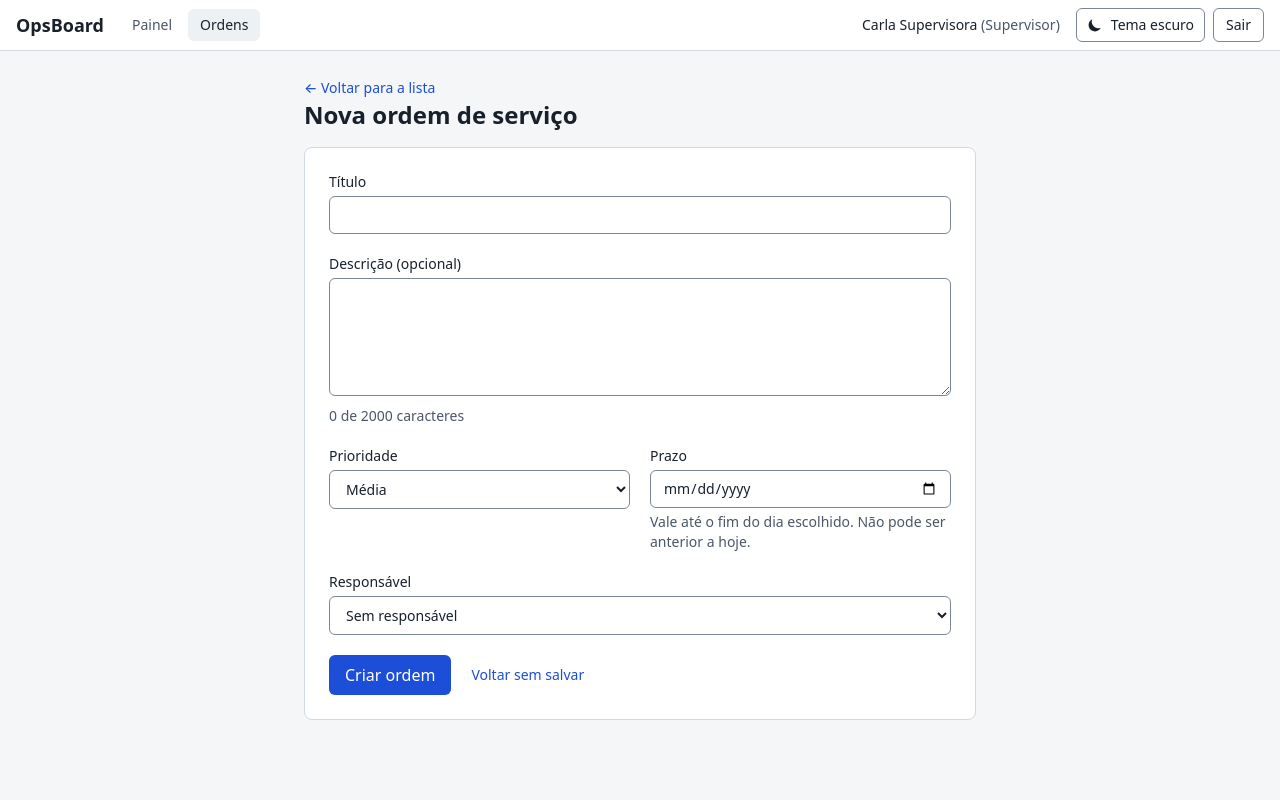
Nova ordem (/orders/new) › supervisor escolhe o responsável
Check: the dropdown labelled "Responsável" is enabled, box [329, 596, 951, 635]
In the field labelled "Título": (640, 215) [329, 196, 951, 234], type "Revisar gerador"
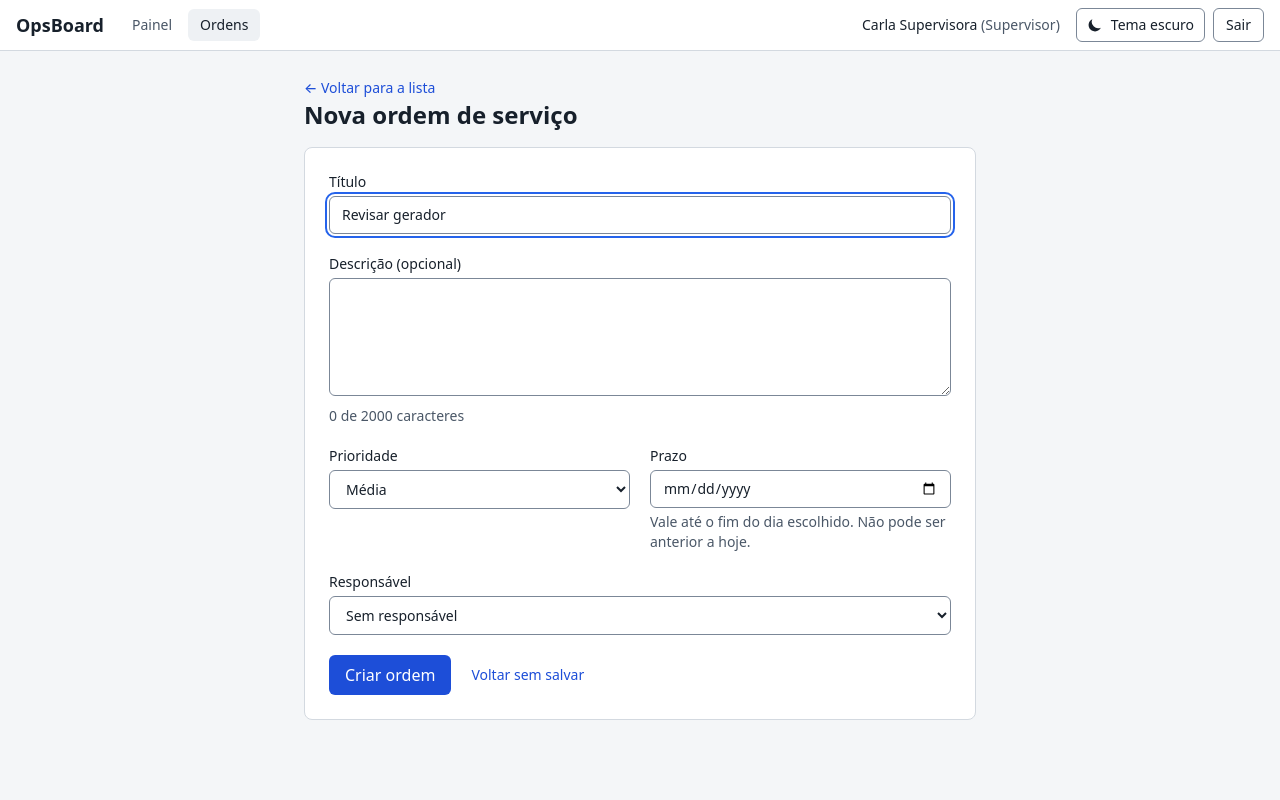
In the date field labelled "Prazo": (800, 489) [650, 470, 951, 508], type "2026-11-12"
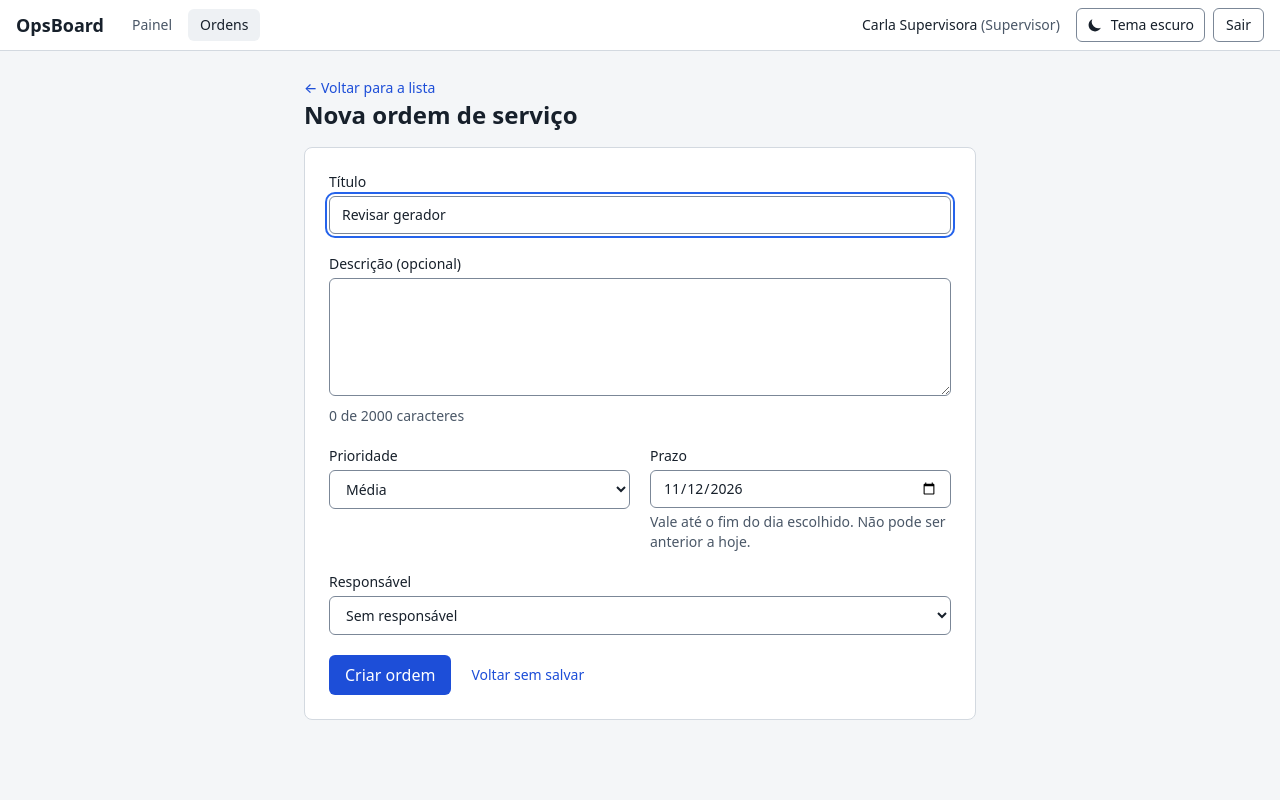
In the text box labelled "Descrição (opcional)": (640, 337) [329, 278, 951, 396], type "Antes do feriado"
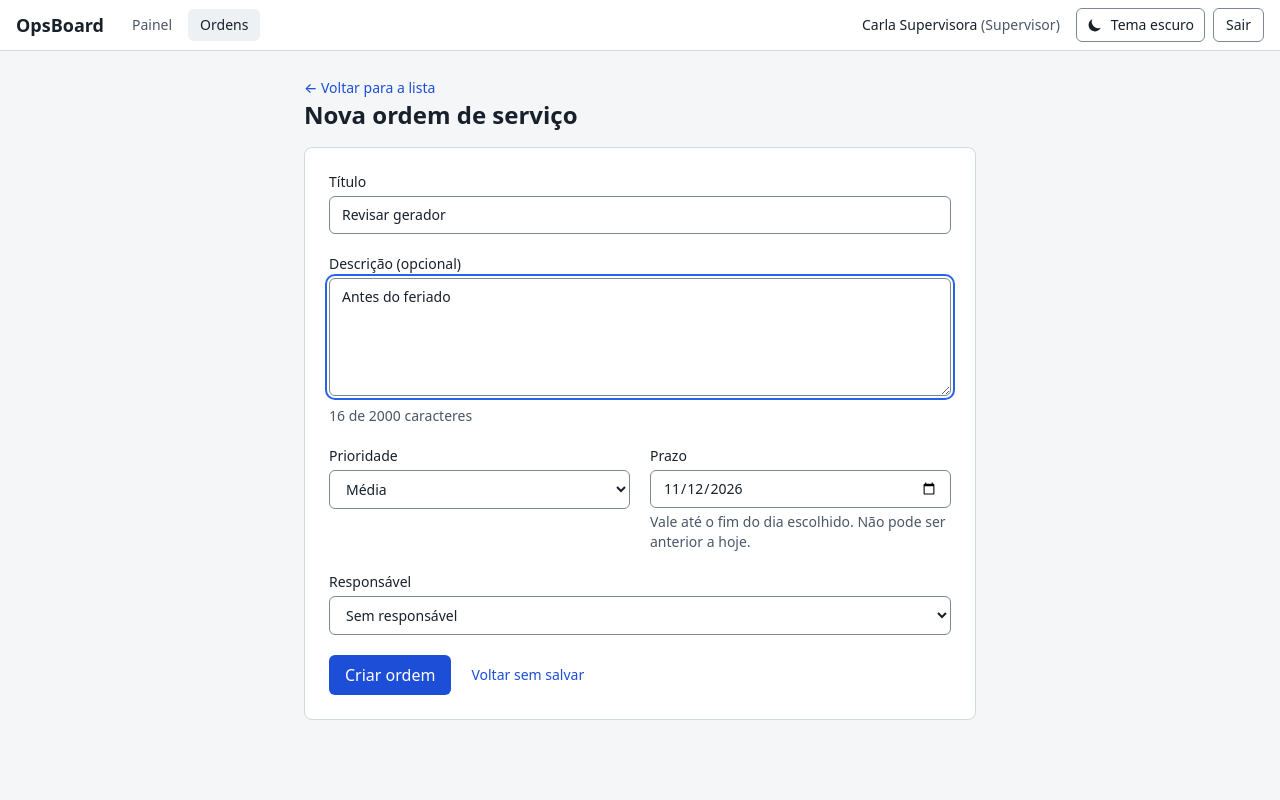
Select "Bruno Operador (Operador)" in the dropdown labelled "Responsável": (640, 616) [329, 596, 951, 635]
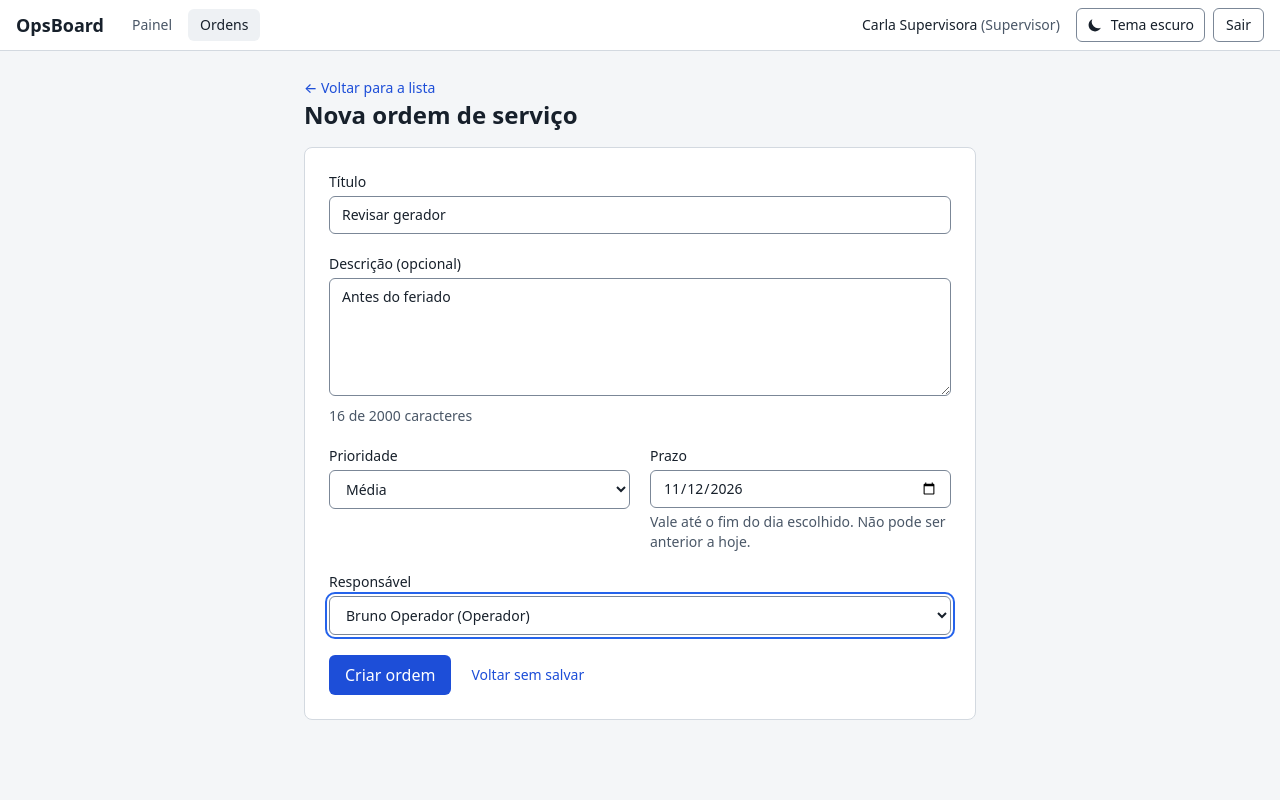
Click the button "Criar ordem": (390, 675) [329, 655, 451, 695]
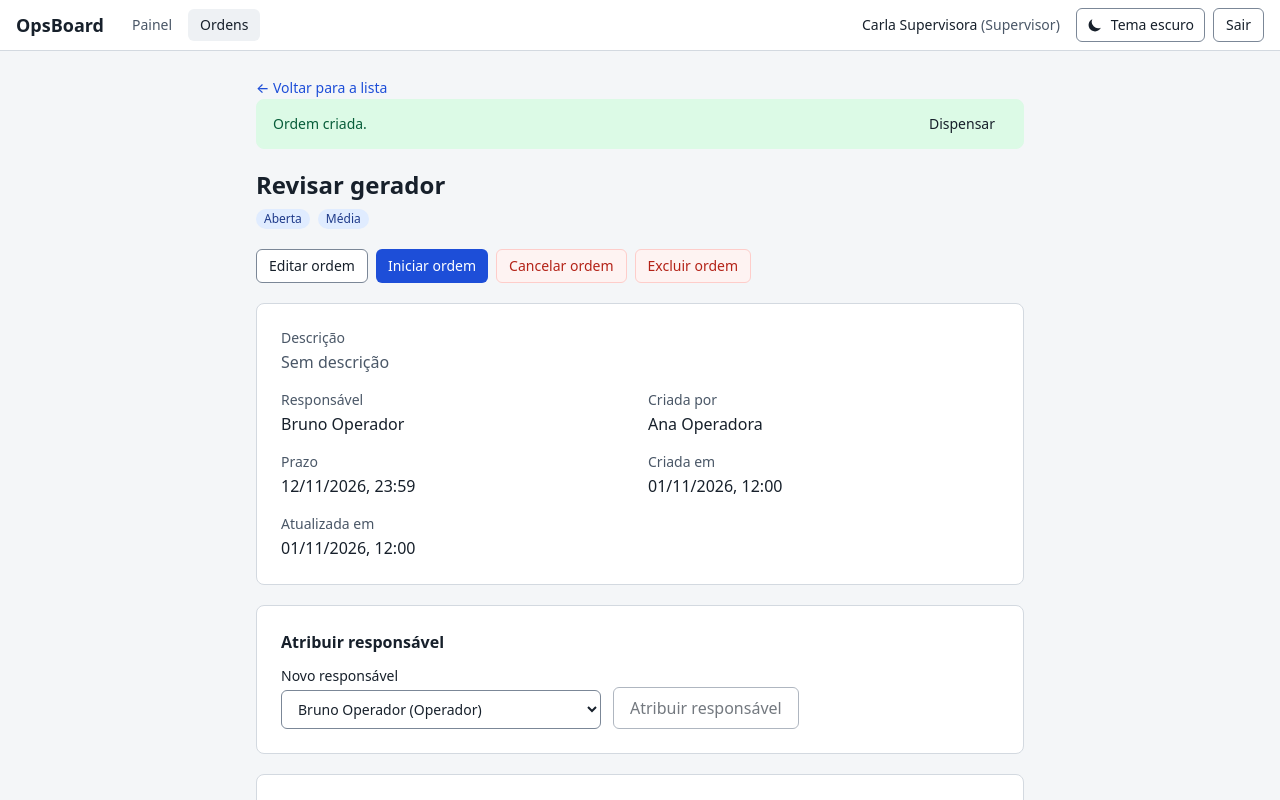
Check: the text "Ordem criada." is shown, box [273, 114, 367, 134]
